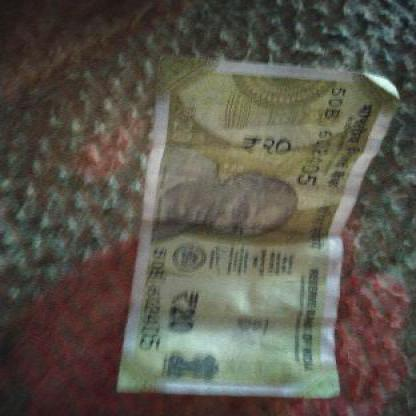New20Front: (142, 59, 362, 395)
